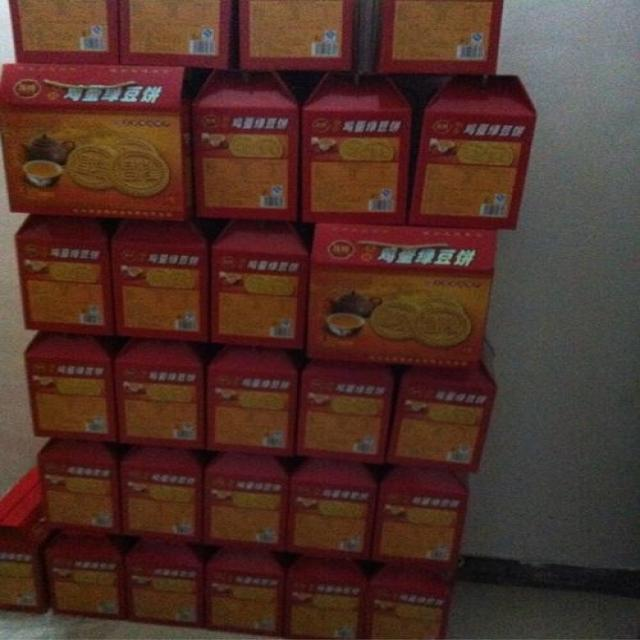box: (0, 61, 193, 221), (302, 221, 497, 371), (406, 74, 538, 231), (298, 71, 412, 224), (192, 68, 301, 221), (384, 338, 498, 475), (209, 216, 311, 350), (109, 219, 209, 343), (15, 213, 113, 336), (22, 330, 118, 445), (205, 345, 303, 456), (355, 2, 503, 75), (292, 358, 393, 464), (371, 469, 470, 573), (115, 337, 205, 450), (0, 463, 64, 614), (289, 457, 379, 564), (205, 451, 292, 554), (36, 436, 122, 536), (118, 447, 205, 544), (238, 1, 357, 70), (118, 0, 233, 69), (125, 537, 206, 629), (205, 547, 287, 637), (46, 531, 127, 621), (280, 556, 367, 639), (357, 566, 454, 640), (9, 0, 118, 64)
